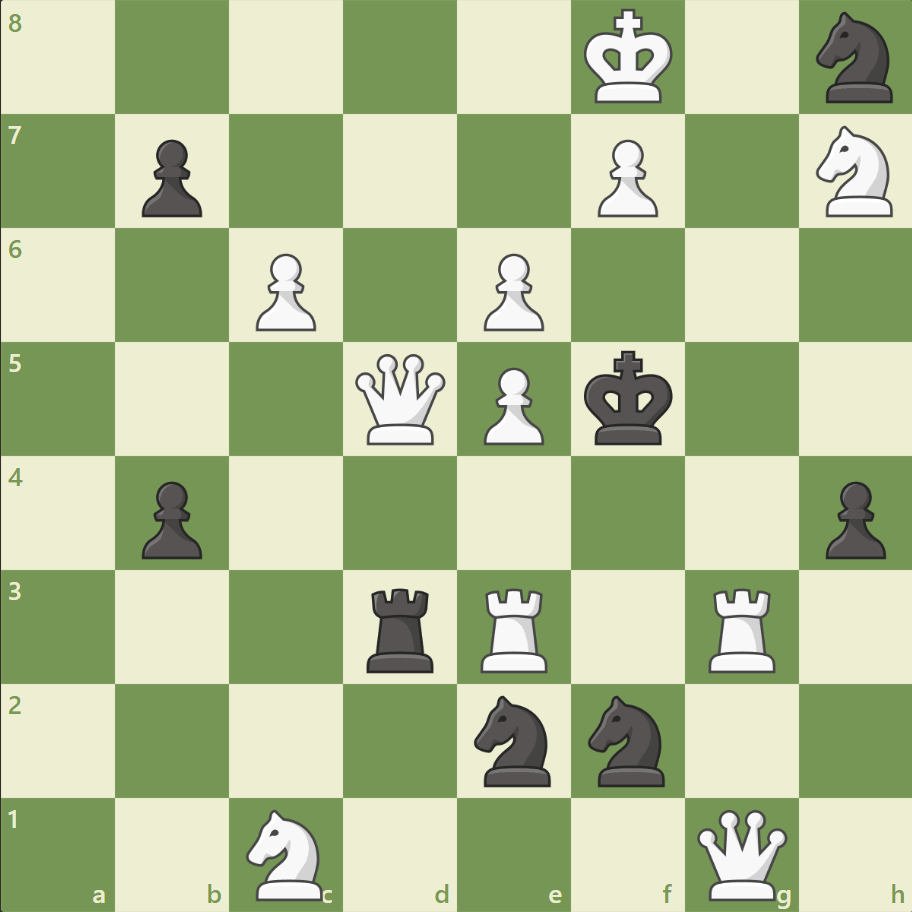K: (579, 4, 679, 112)
N: (806, 121, 903, 223), (238, 802, 335, 904)
P: (247, 246, 322, 337), (474, 246, 549, 337), (474, 359, 549, 450), (588, 132, 662, 223)
Q: (351, 349, 450, 449), (691, 804, 790, 903)
R: (473, 579, 556, 676), (700, 579, 783, 676)
k: (579, 344, 679, 452)
n: (806, 7, 903, 110), (465, 688, 562, 791), (579, 688, 676, 791)
p: (133, 132, 208, 223), (133, 473, 208, 564), (815, 473, 889, 564)
r: (360, 579, 442, 676)
